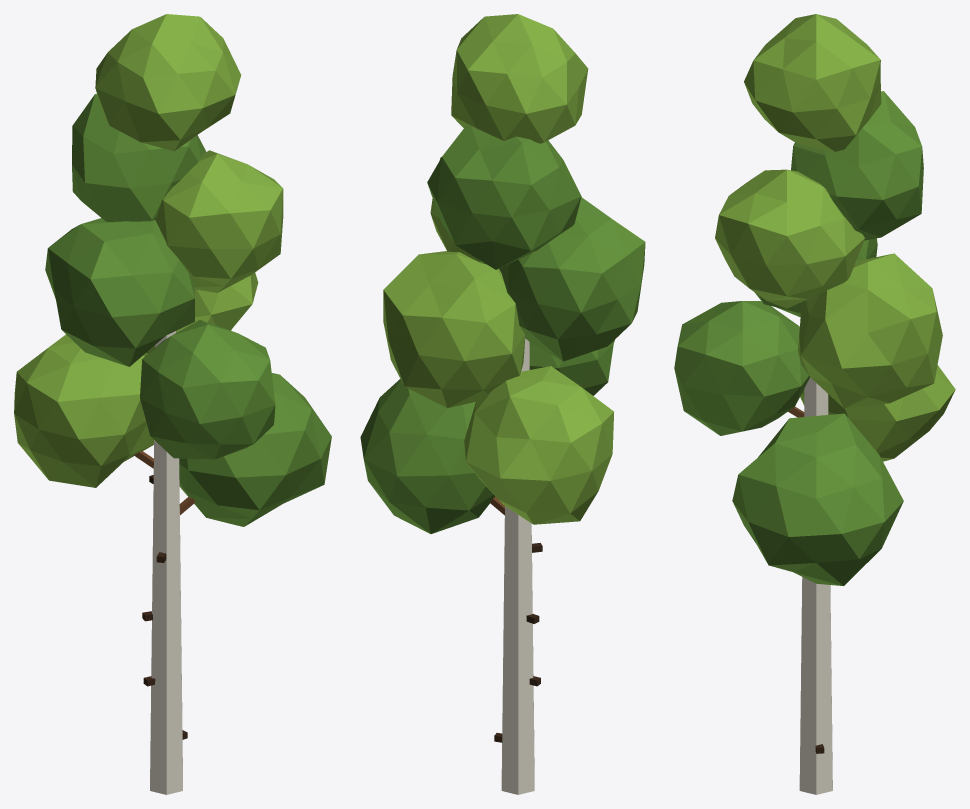
The model's file is Tree_Birch.fbx.
3 views of the same model, side by side, from view 1: azimuth 30°, elevation 25°; view 2: azimuth 150°, elevation 25°; view 3: azimuth 270°, elevation 25° (orthographic).
Visible parts, largest first — view 1: Tree_Birch; view 2: Tree_Birch; view 3: Tree_Birch.
Boxes of the visible parts, bbox=[...] form: Tree_Birch: bbox=[14, 14, 331, 794]; Tree_Birch: bbox=[360, 14, 645, 794]; Tree_Birch: bbox=[674, 14, 955, 794].
Size of the model in its own units: 2.4 by 6.69 by 2.21.
